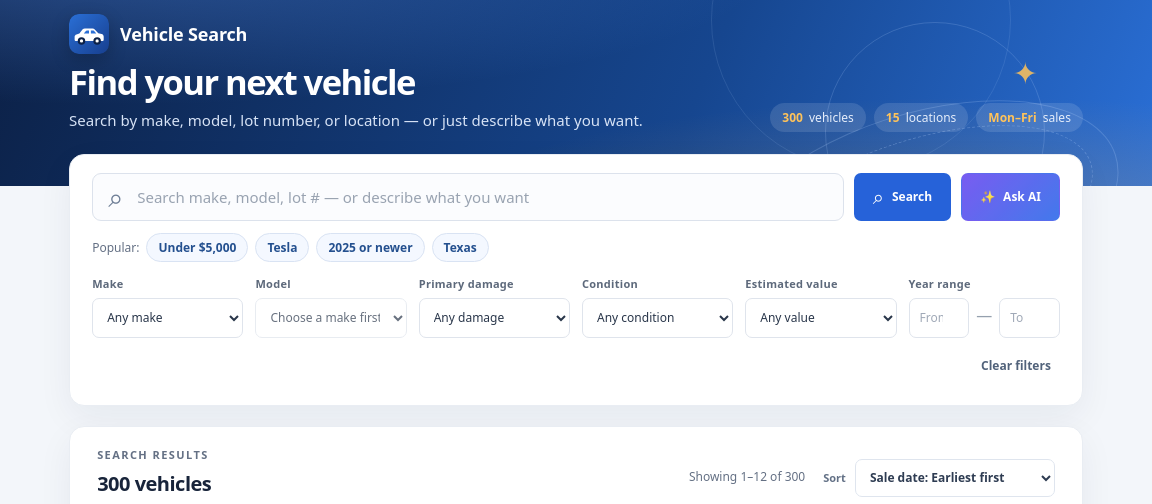
vehicle search interactions › sends an answer to an AI clarification with the original request
expect the heading "300 vehicles" is shown: met, box x1=97 y1=470 x2=211 y2=497
Type "Toyota under 20" into the search field named "search by vehicle". click: (482, 197)
box: x1=135 y1=186 x2=828 y2=208
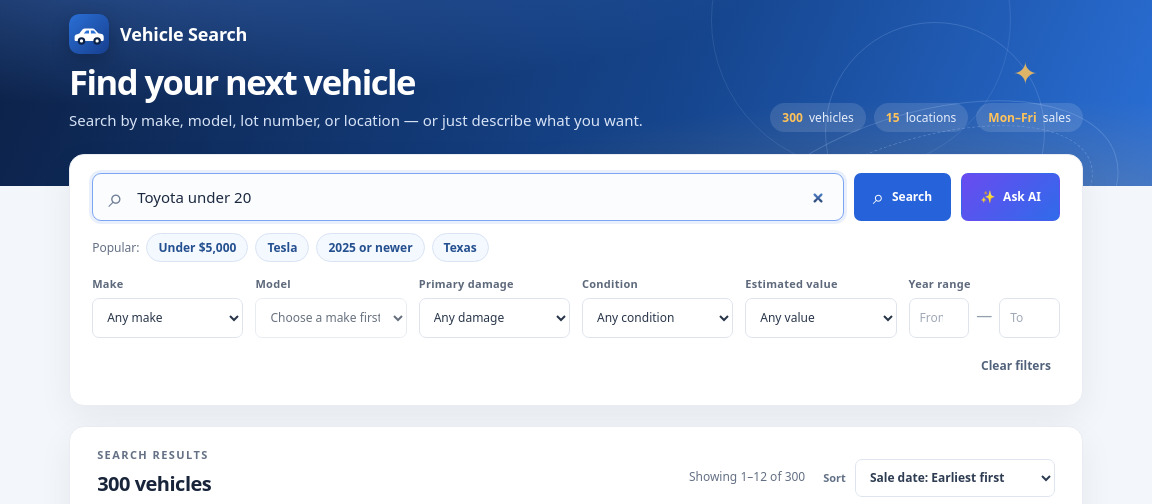
Click the button "✨ Ask AI". click: (1010, 197)
box: x1=961 y1=173 x2=1060 y2=221
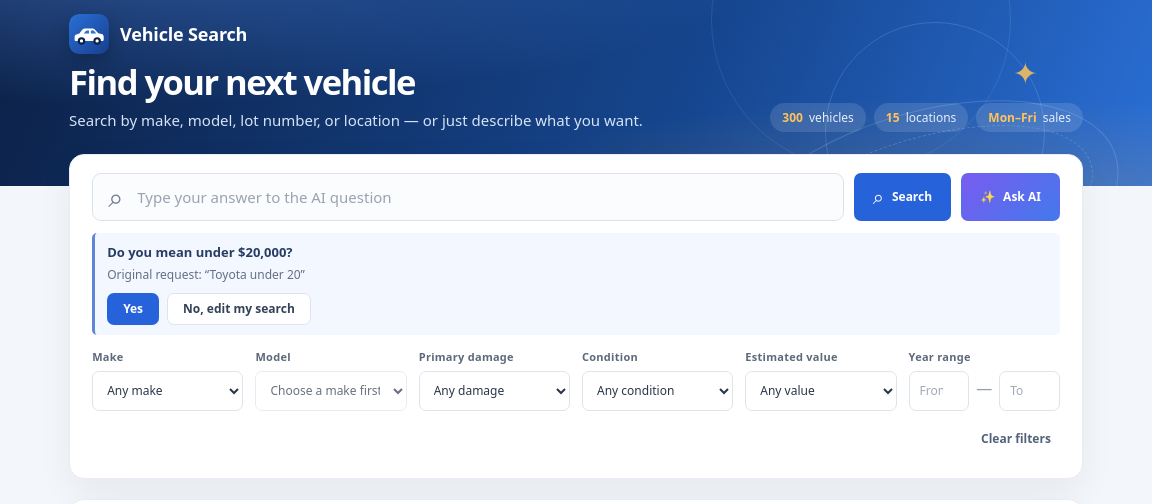
expect the text "Do you mean under $20,000?" is shown: met, box x1=107 y1=243 x2=292 y2=261
Type "Yes, $20,000" into the search field named "Answer the AI question". click: (482, 197)
box: x1=135 y1=186 x2=828 y2=208
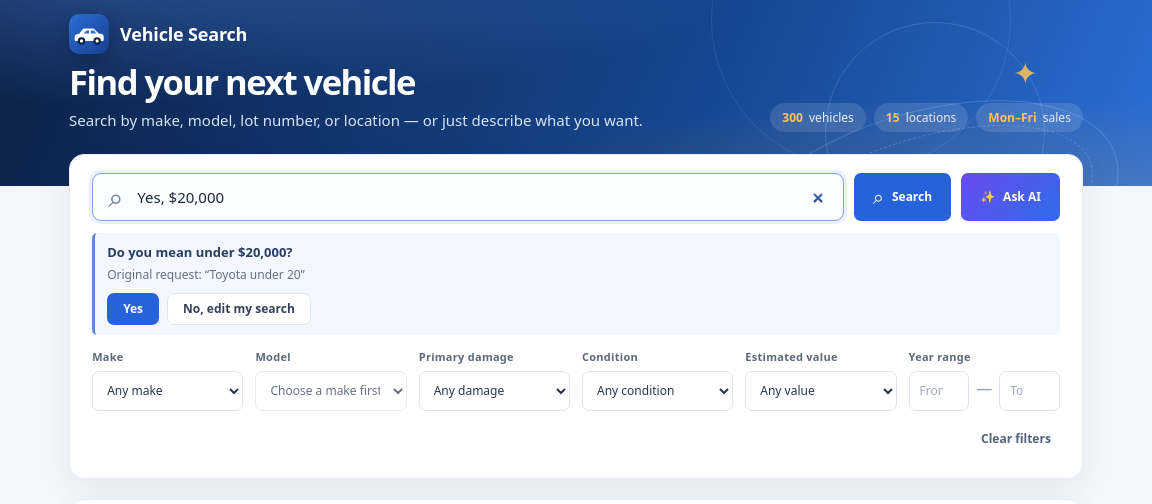
Click the button with aria-label "Ask AI with clarification". click: (1010, 197)
box: x1=961 y1=173 x2=1060 y2=221
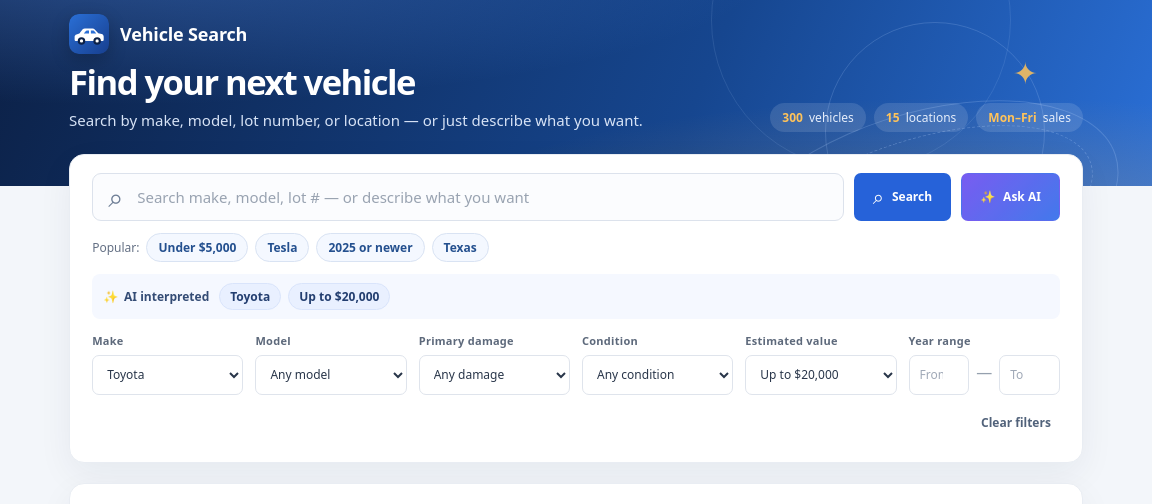
expect the dropdown labelled "Make" shows "Toyota": met, box x1=92 y1=355 x2=243 y2=395
expect the search field named "search by vehicle" is empty: met, box x1=135 y1=186 x2=828 y2=208
